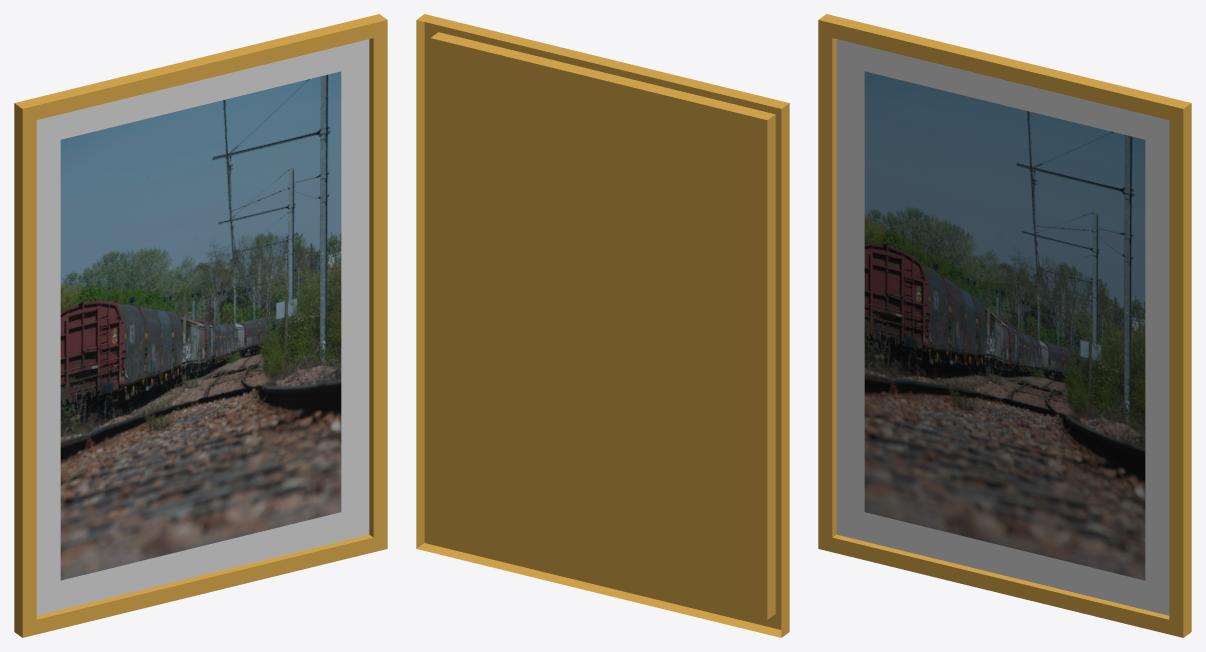
File: rails.fbx
3 renders of one model, left to right at view 1: azimuth 30°, elevation 25°; view 2: azimuth 150°, elevation 25°; view 3: azimuth 330°, elevation 25°, orthographic.
Visible parts, largest first — view 1: Image, Background, Frame; view 2: Frame; view 3: Image, Background, Frame.
Boxes of the visible parts, bbox=[...] form: Image: bbox=[60, 71, 341, 580]; Background: bbox=[36, 39, 369, 615]; Frame: bbox=[14, 14, 387, 637]; Frame: bbox=[416, 14, 789, 637]; Image: bbox=[864, 71, 1145, 580]; Background: bbox=[836, 39, 1169, 615]; Frame: bbox=[818, 14, 1191, 637].
Bounding box in the file's own units: 260 × 360 × 10.
